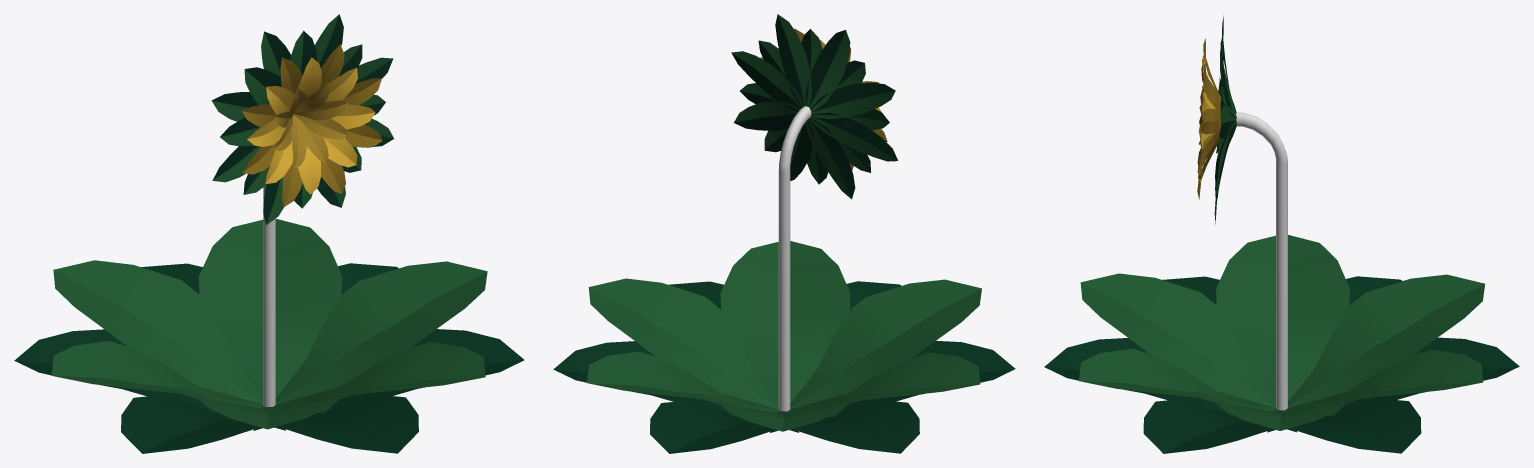
The model's file is dandelion.fbx.
The picture shows the model from 3 angles, left to right: view 1: azimuth 30°, elevation 25°; view 2: azimuth 150°, elevation 25°; view 3: azimuth 270°, elevation 25°; orthographic projection. The views are drawn at different scales.
Parts seen in each view (by area): view 1: dandelionbase, dandelionpetals, dandelionleaves, dandelionstem; view 2: dandelionbase, dandelionleaves, dandelionstem; view 3: dandelionbase, dandelionstem, dandelionpetals, dandelionleaves.
Part boxes in pixels (x1,y1,x2,y2): dandelionbase: [14, 219, 524, 453]; dandelionpetals: [241, 44, 382, 206]; dandelionleaves: [211, 14, 394, 224]; dandelionstem: [263, 186, 275, 406]; dandelionbase: [553, 241, 1015, 453]; dandelionleaves: [731, 14, 897, 199]; dandelionstem: [778, 106, 811, 411]; dandelionbase: [1044, 235, 1519, 453]; dandelionstem: [1236, 112, 1287, 410]; dandelionpetals: [1197, 38, 1221, 199]; dandelionleaves: [1214, 14, 1236, 224].
Bounding box in the file's own units: 298 × 269 × 304.
